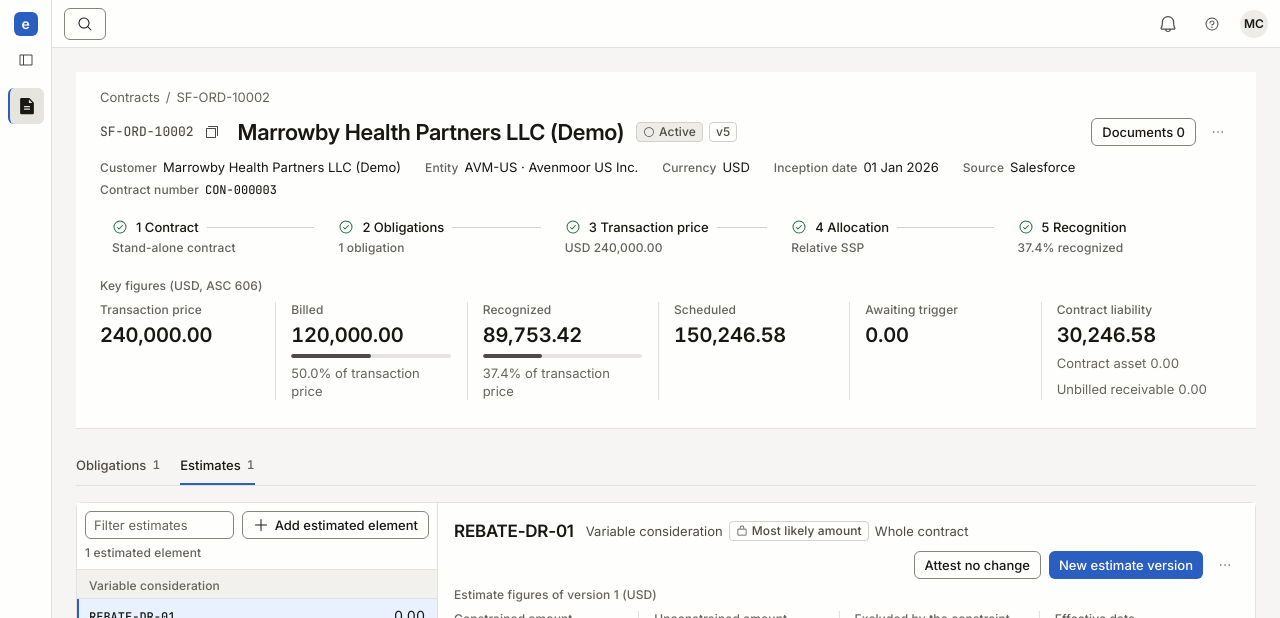
Test: SF-03:estimate › method chip locked
Check: the picture with test id "SF-03-chip-method" reads "Most likely amount", box [752, 523, 862, 538]
Step 1. Click the button "New estimate version" → (1126, 565), box [1049, 551, 1203, 579]
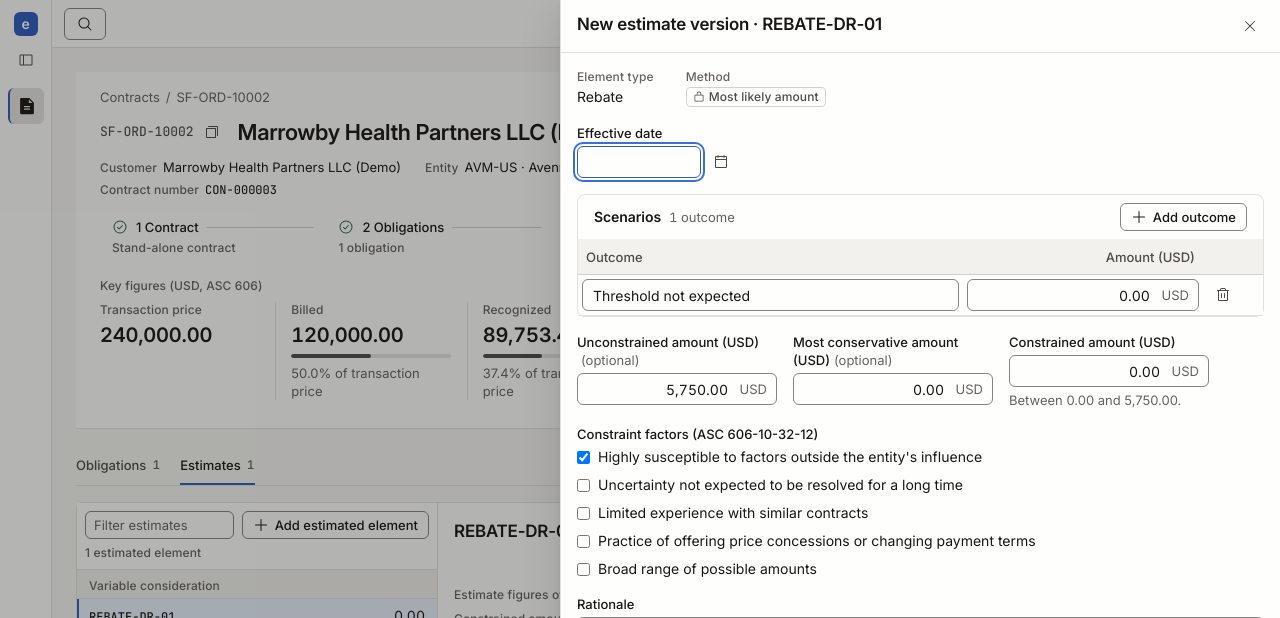
Check: the heading "New estimate version · REBATE-DR-01" is shown, box [577, 14, 882, 34]
Check: the picture named "Method most likely amount, locked" reads "Most likely amount", box [709, 89, 819, 104]
Check: the text "Rebate" is shown, box [577, 88, 623, 105]
